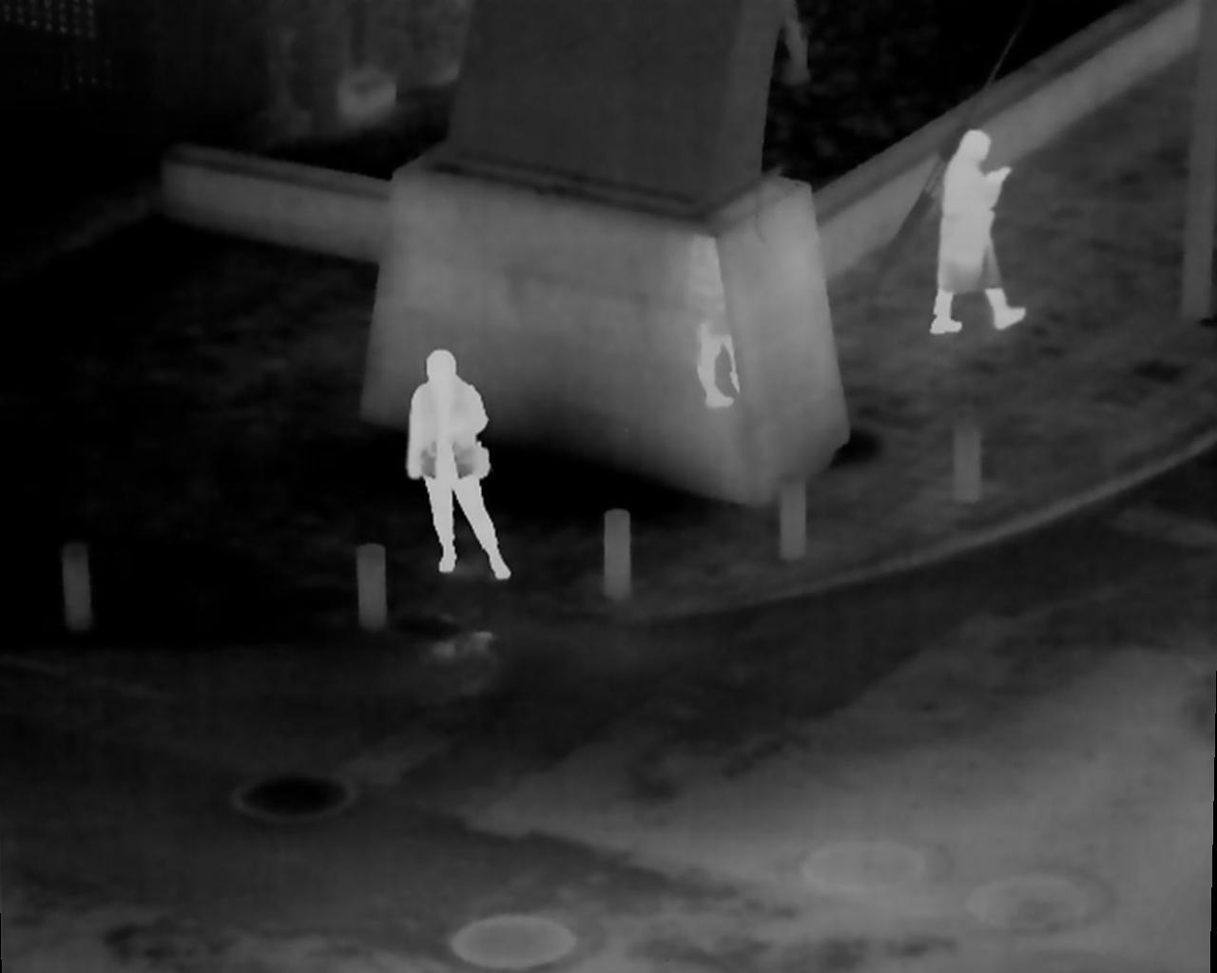person: (406, 349, 516, 586), (927, 125, 1019, 345)
